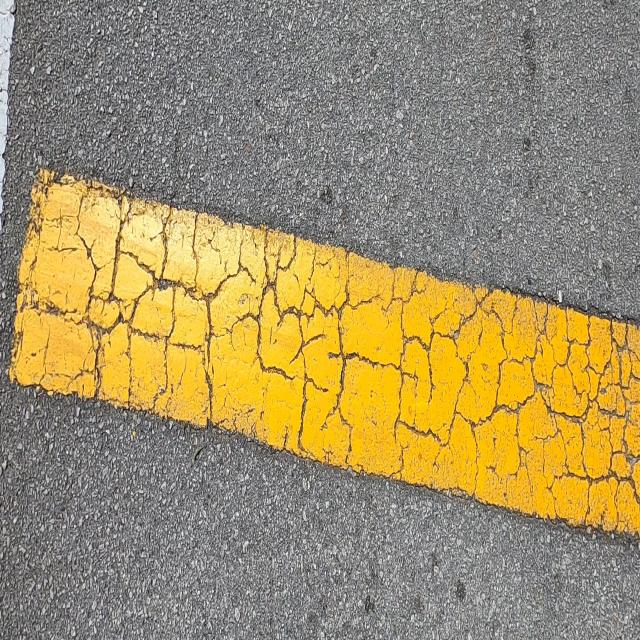Retak-Buaya: (35, 177, 640, 539)
